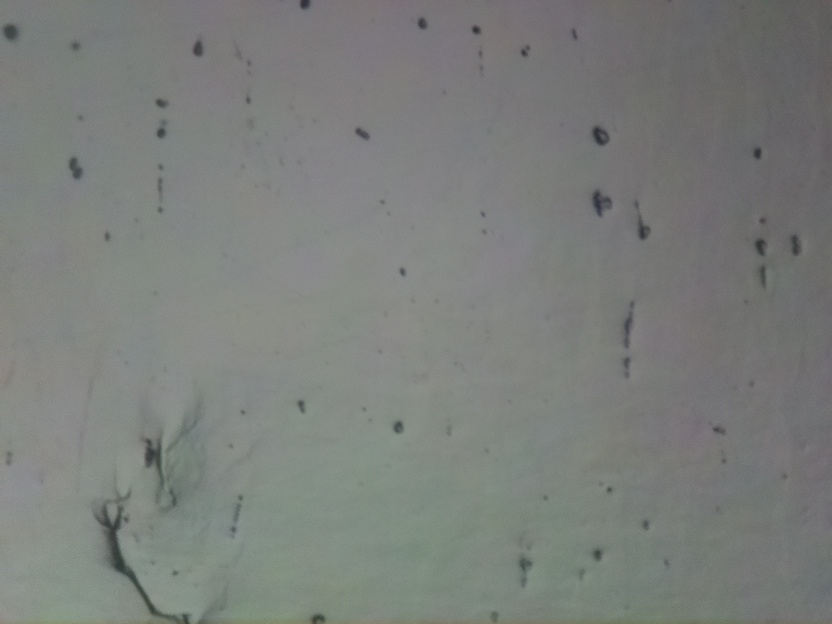crack: (95, 500, 197, 624)
